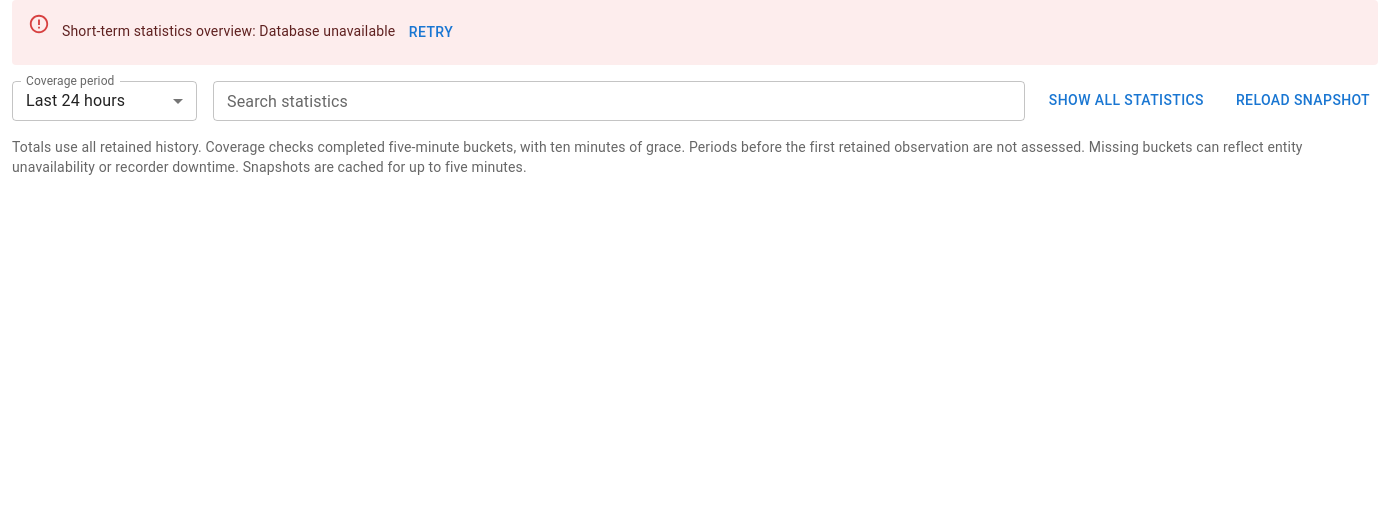
Test: shows terminal errors and retries the overview successfully
Click the button "Retry".
click(431, 32)  # box 399,14 -> 463,50
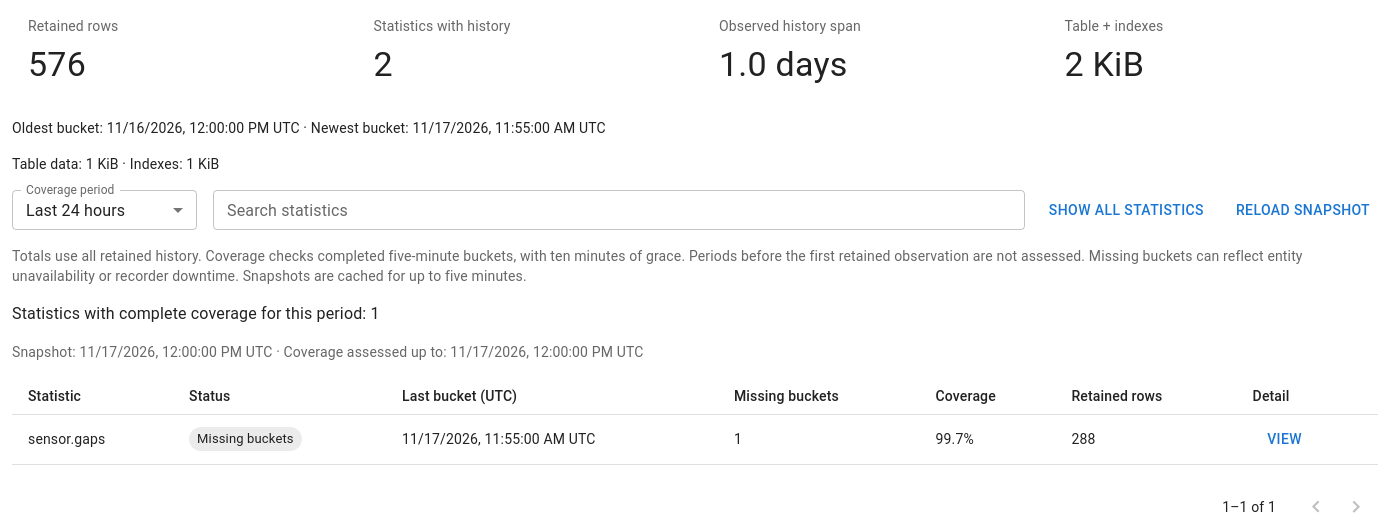
expect the text "sensor.gaps" is shown: met, box 12,415 -> 173,464
